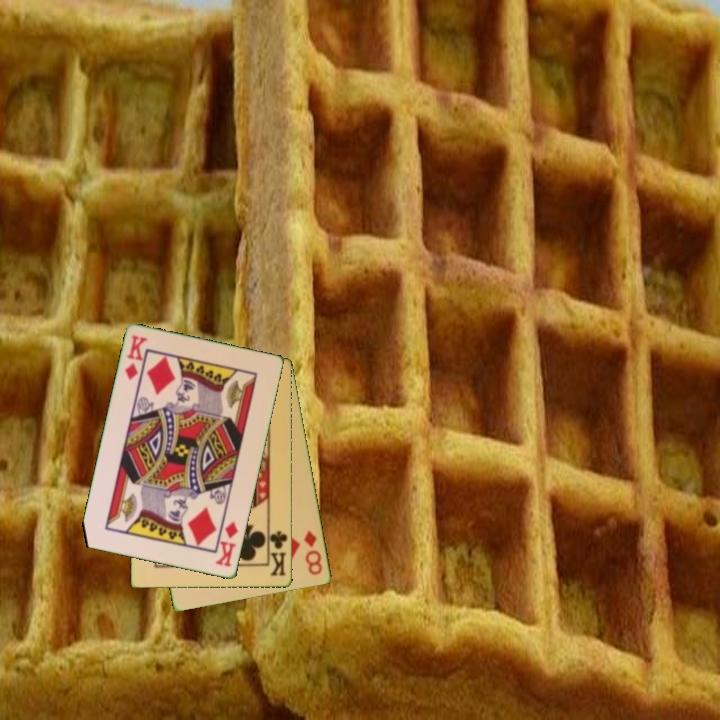8d: (301, 527, 326, 578)
Kc: (266, 525, 291, 579)
Kd: (212, 518, 241, 570), (122, 332, 150, 383)
